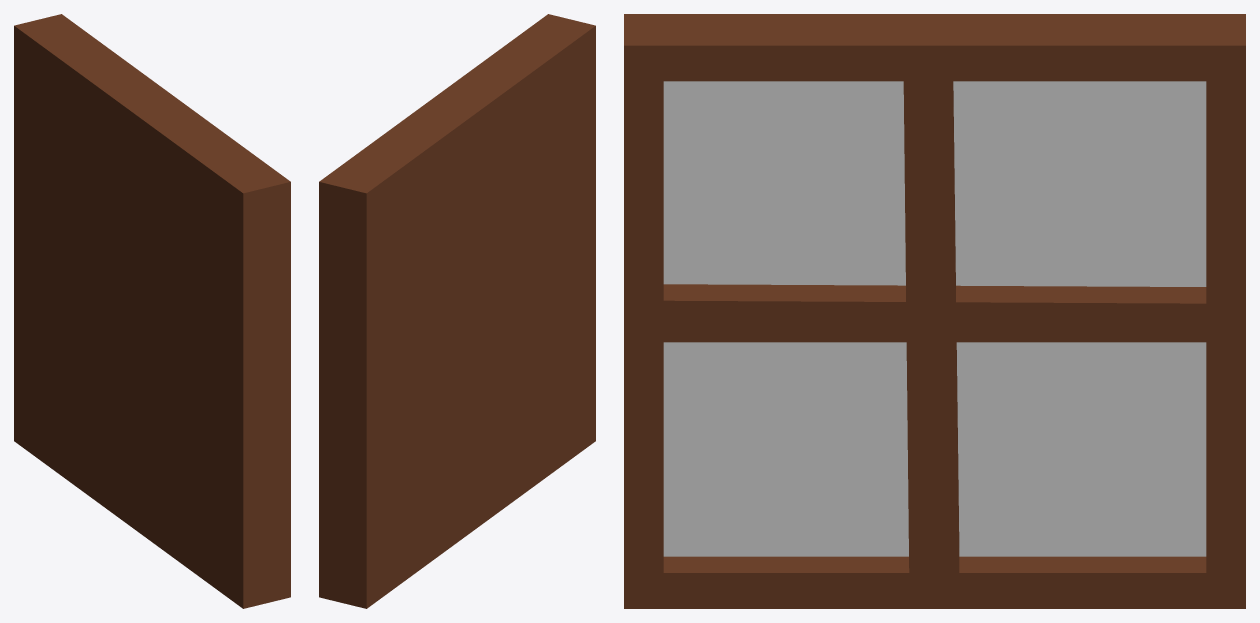
The model's file is window4.glb.
The picture shows the model from 3 angles, left to right: view 1: azimuth 30°, elevation 25°; view 2: azimuth 150°, elevation 25°; view 3: azimuth 270°, elevation 25°; orthographic projection. The views are drawn at different scales.
Visible parts, largest first — view 1: small window 1; view 2: small window 1; view 3: small window 1.
Part boxes in pixels (<box>): small window 1: <box>14,14,290,608</box>; small window 1: <box>319,14,595,608</box>; small window 1: <box>624,14,1245,608</box>.
Bounding box in the file's own units: 0.2225 × 1.85 × 1.85.
